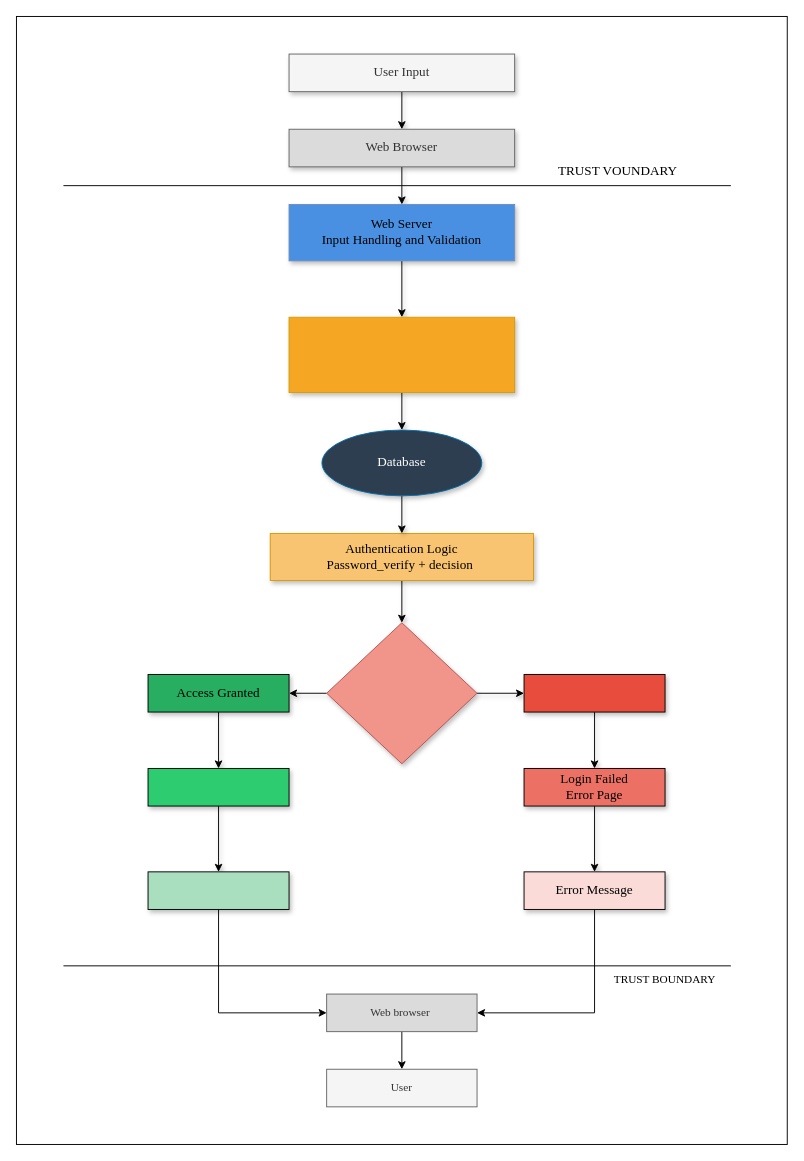
Image size: 804x1161. Some labels were removed from this diagram. The centre of each missing label's shape, as x and y in pixels:
"Access Denied" goes at point 595,694.
"Authentication Logic SQL Query: SELECT Password FROM users WERE username=?" goes at point 402,356.
"Lgin Successful Dashboard" goes at point 219,788.
"Session Created" goes at point 219,891.
"Valid /Invalid Login" goes at point 402,694.
